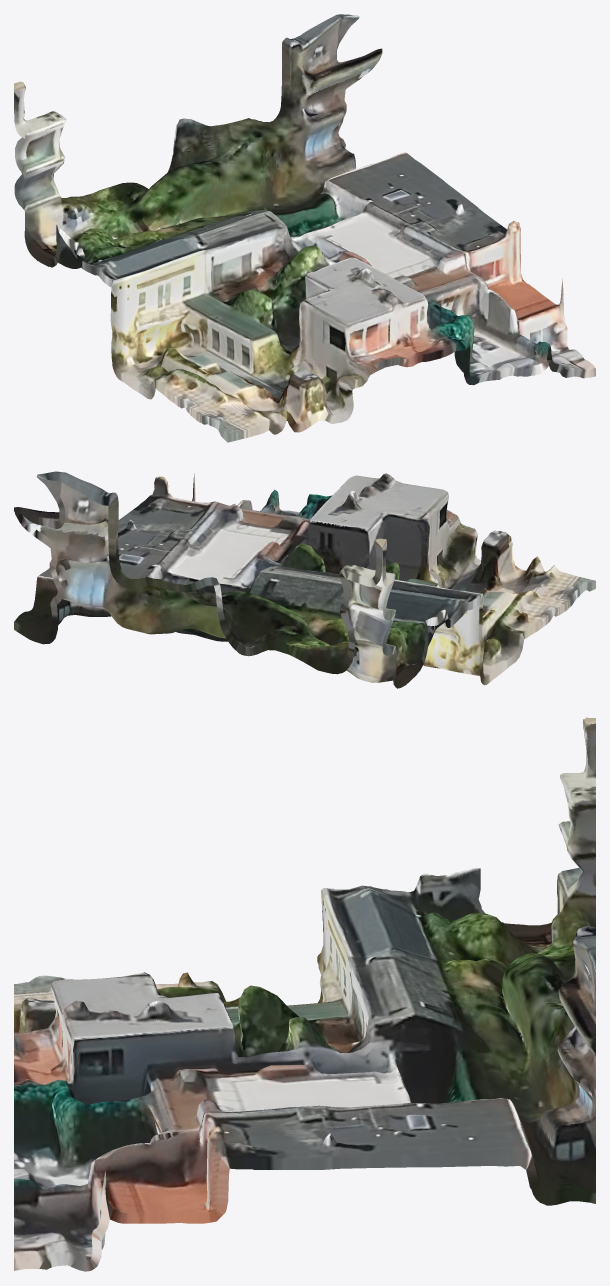
The model's file is z20-167757-405195-h0-yup-uvflip-v3-world.glb.
3 renders of one model, top to bottom at view 1: azimuth 30°, elevation 25°; view 2: azimuth 150°, elevation 25°; view 3: azimuth 270°, elevation 25°, orthographic. The views are drawn at different scales.
Bounding box in the file's own units: 30.16 × 17.8 × 30.32.
Materials: 1 (1 with a texture image).
